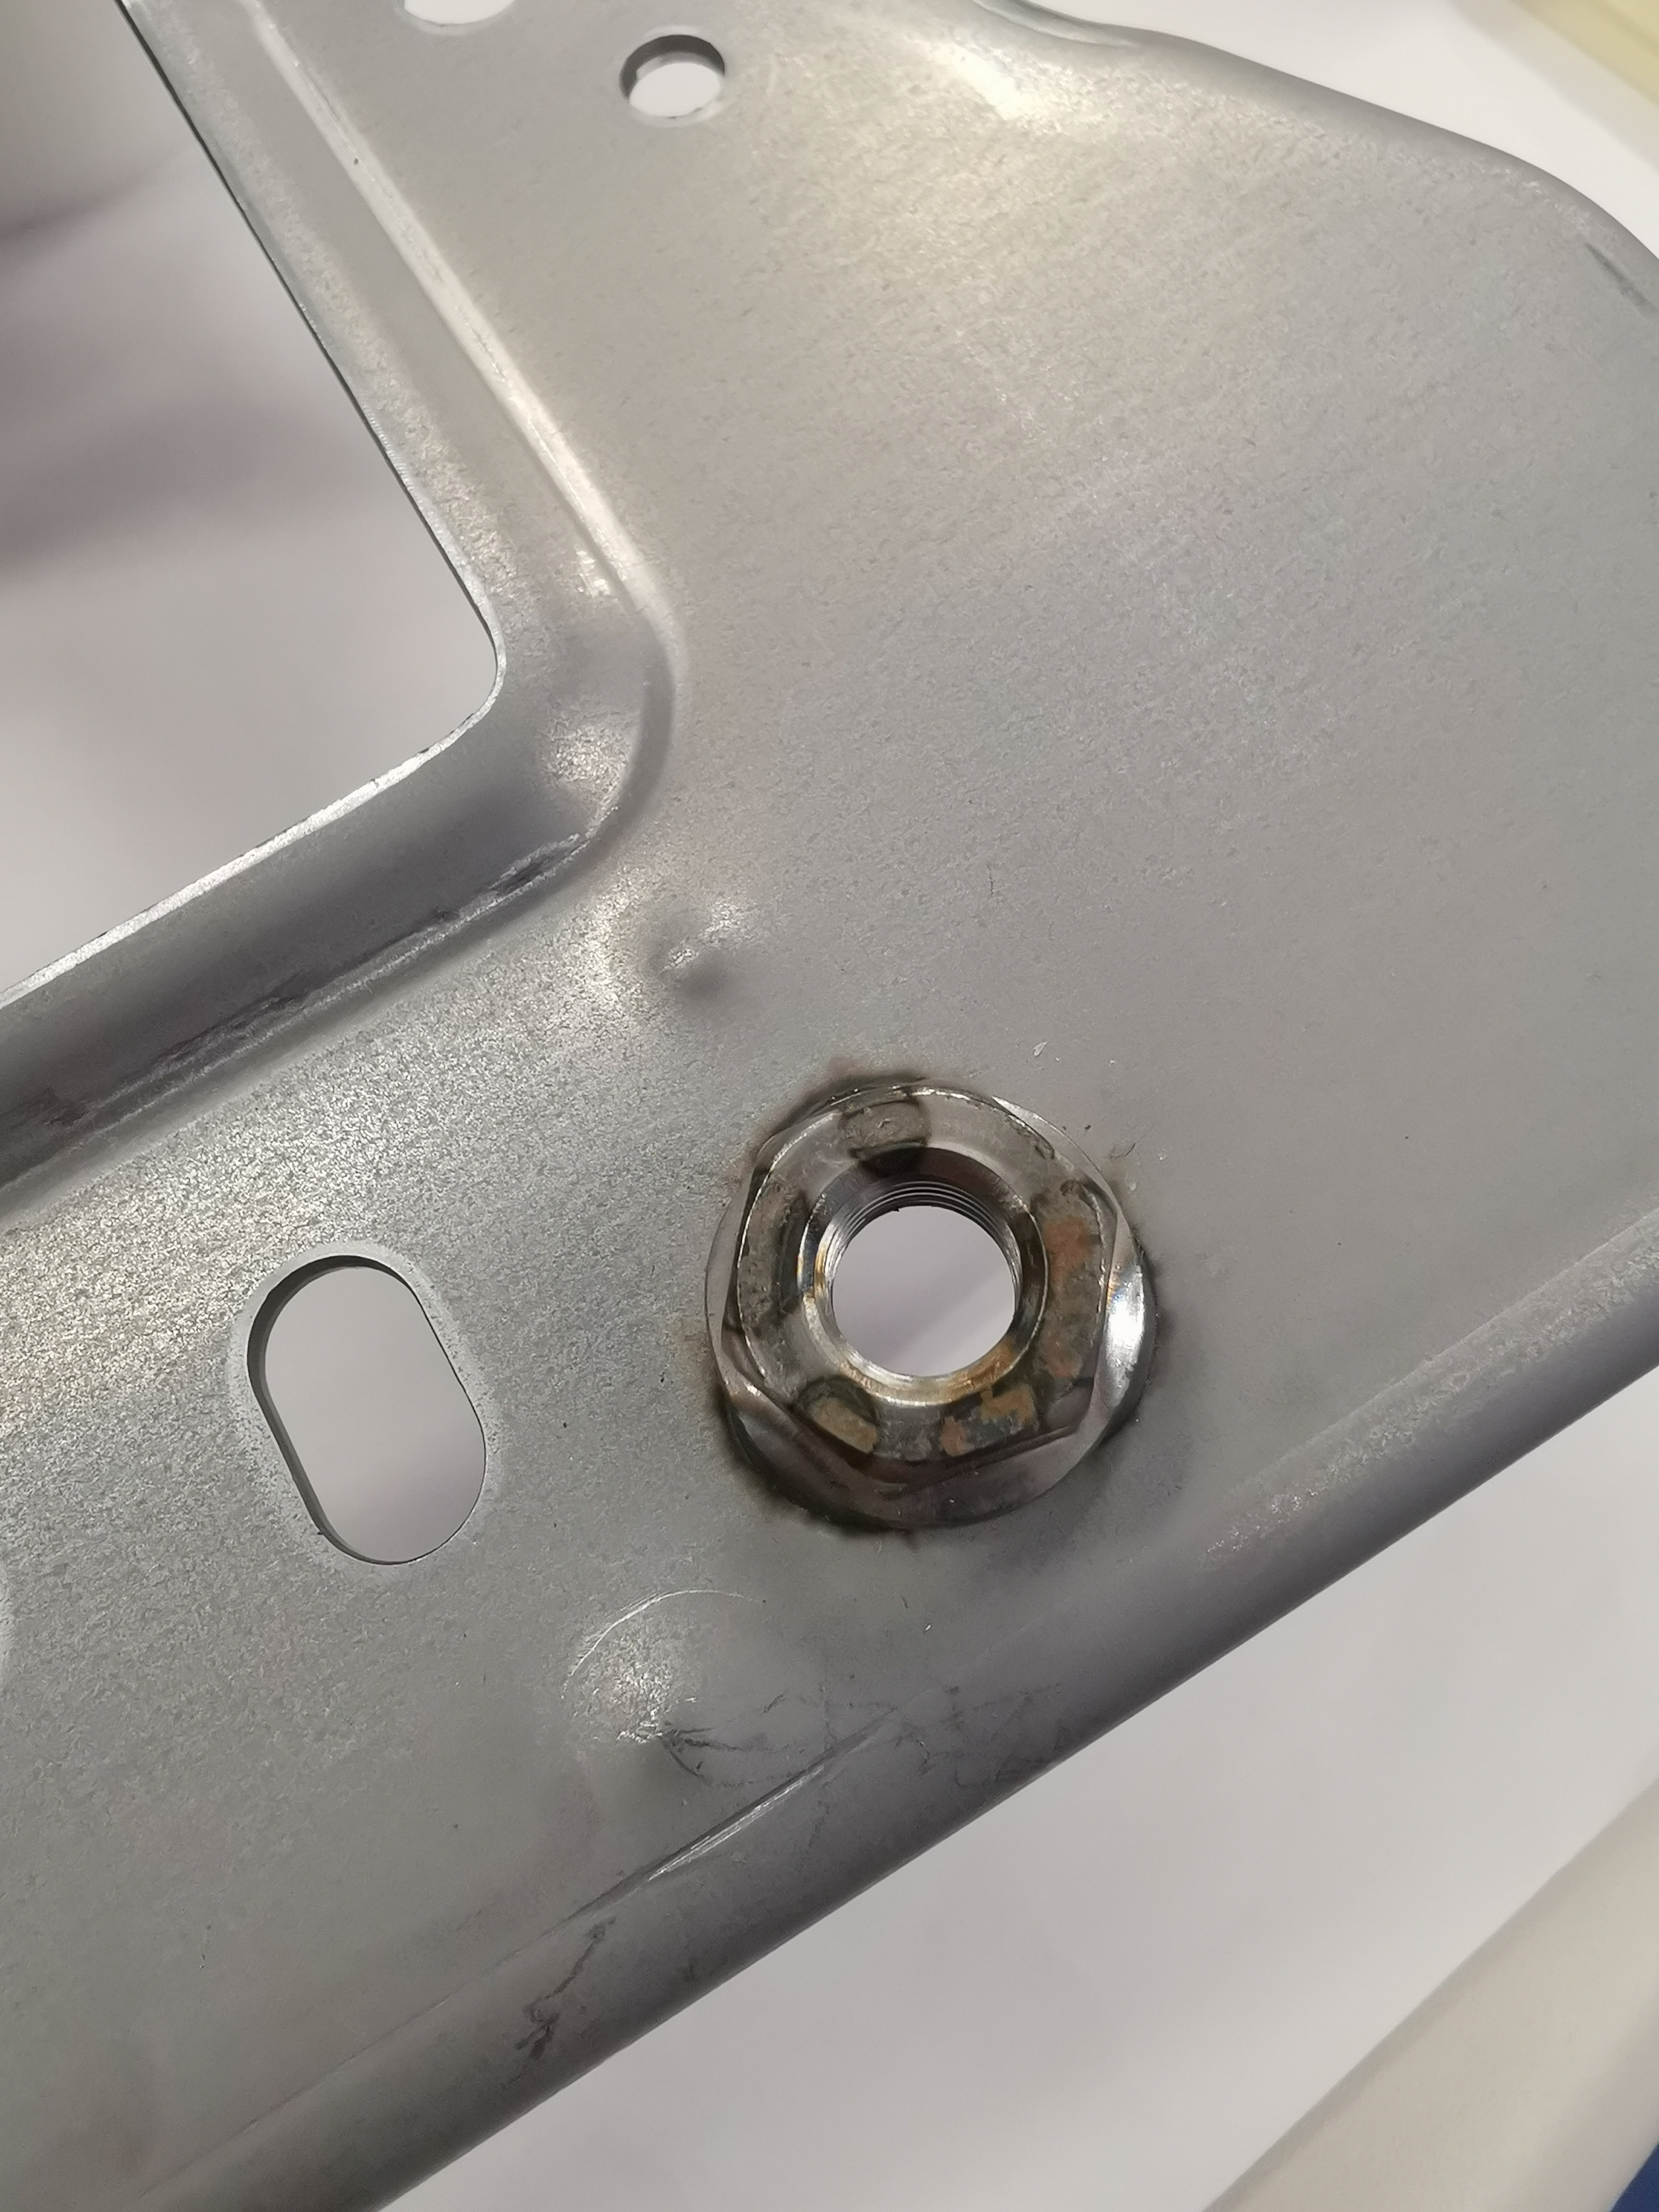dog: (695, 1062, 1176, 1545)
